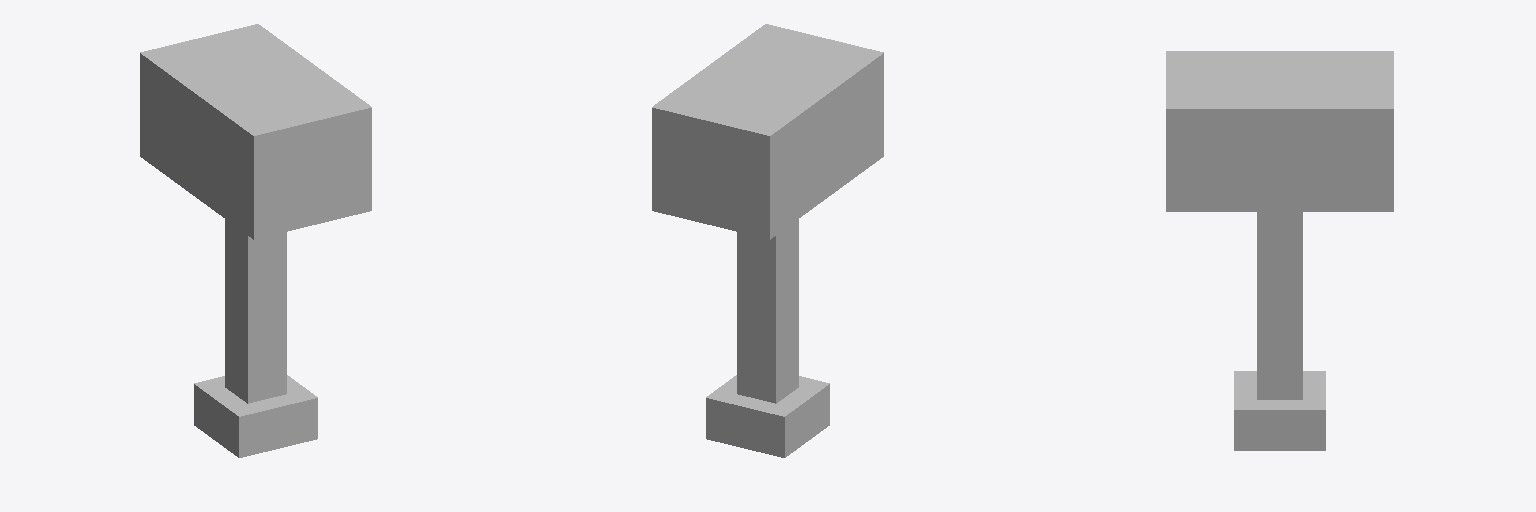
File: eletric_hammer.obj
3 views of the same model, side by side, from view 1: azimuth 30°, elevation 25°; view 2: azimuth 150°, elevation 25°; view 3: azimuth 270°, elevation 25° (orthographic).
Visible parts, largest first — view 1: Functional, Handle, Bottem; view 2: Functional, Handle, Bottem; view 3: Functional, Handle, Bottem.
Part boxes in pixels (x1,y1,x2,y2): Functional: (140, 24, 371, 239); Handle: (225, 219, 286, 403); Bottem: (194, 375, 317, 457); Functional: (652, 24, 883, 239); Handle: (737, 219, 798, 403); Bottem: (706, 375, 829, 457); Functional: (1166, 51, 1393, 211); Handle: (1257, 212, 1302, 399); Bottem: (1234, 371, 1325, 450).
Size of the model in its own units: 0.375 by 1.06 by 0.625.